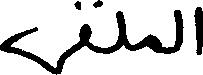X: (0, 22, 65, 74), (79, 0, 88, 54), (197, 0, 202, 74), (145, 29, 158, 57), (175, 5, 181, 56), (119, 6, 124, 53)
